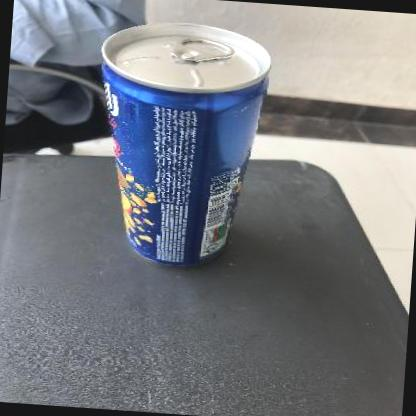alumunium_can: (87, 16, 277, 274)
